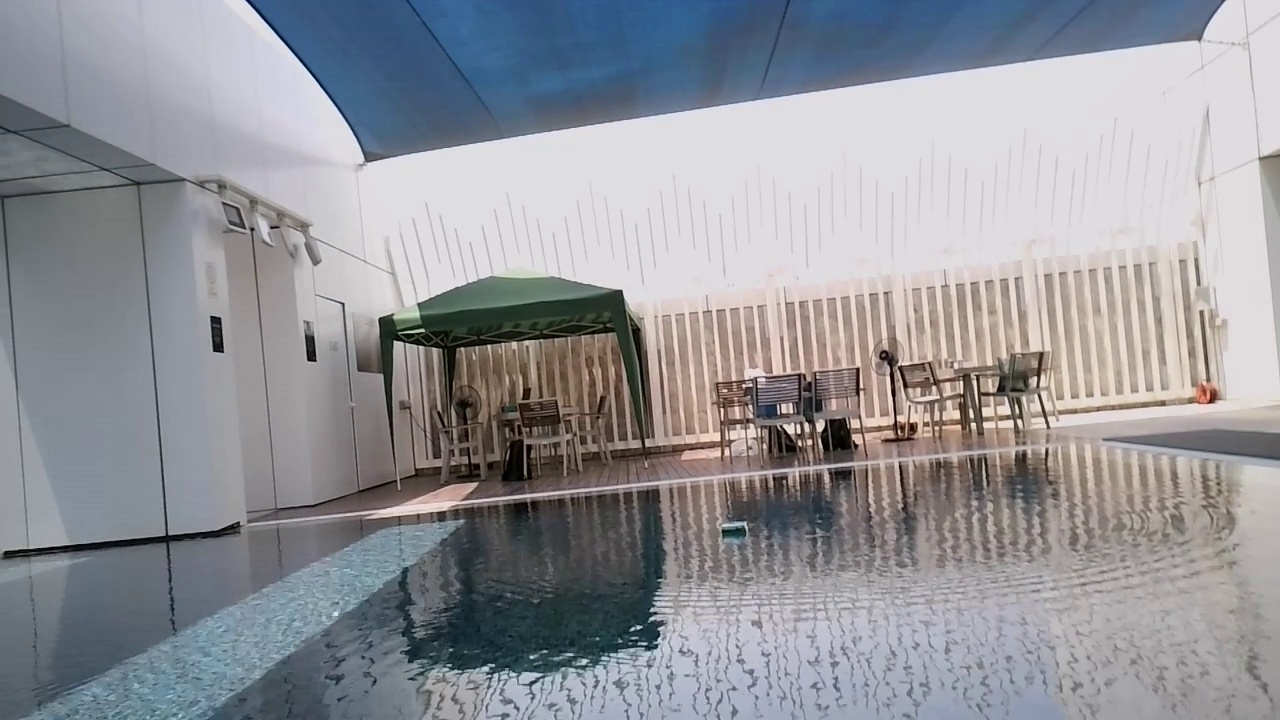debris: (718, 518, 751, 542)
